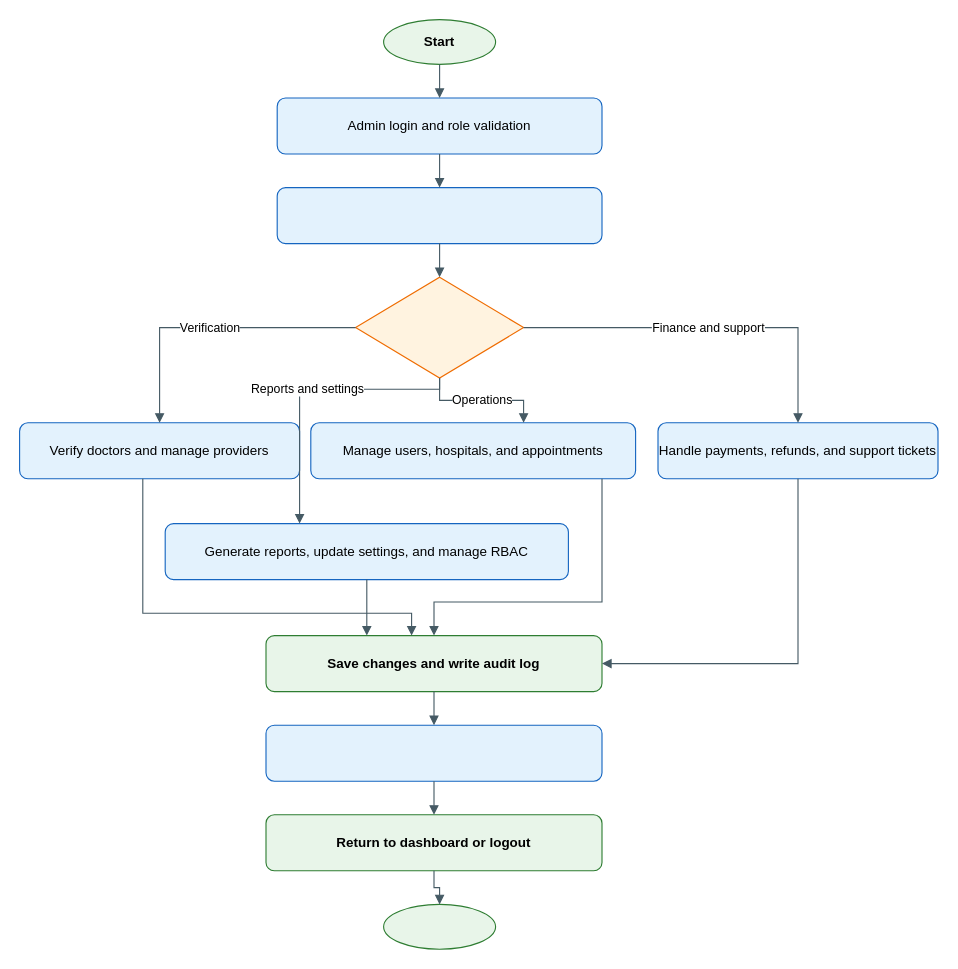
Some shapes in this 958 by 969 pixel diagram are drawn without their labels. Here are the shapes that lost their labels. From the top down, the centre of each, then its label:
At pixel 439 215: "Open admin dashboard".
At pixel 439 327: "Select admin module".
At pixel 433 752: "Notify affected users or providers".
At pixel 439 926: "End".
